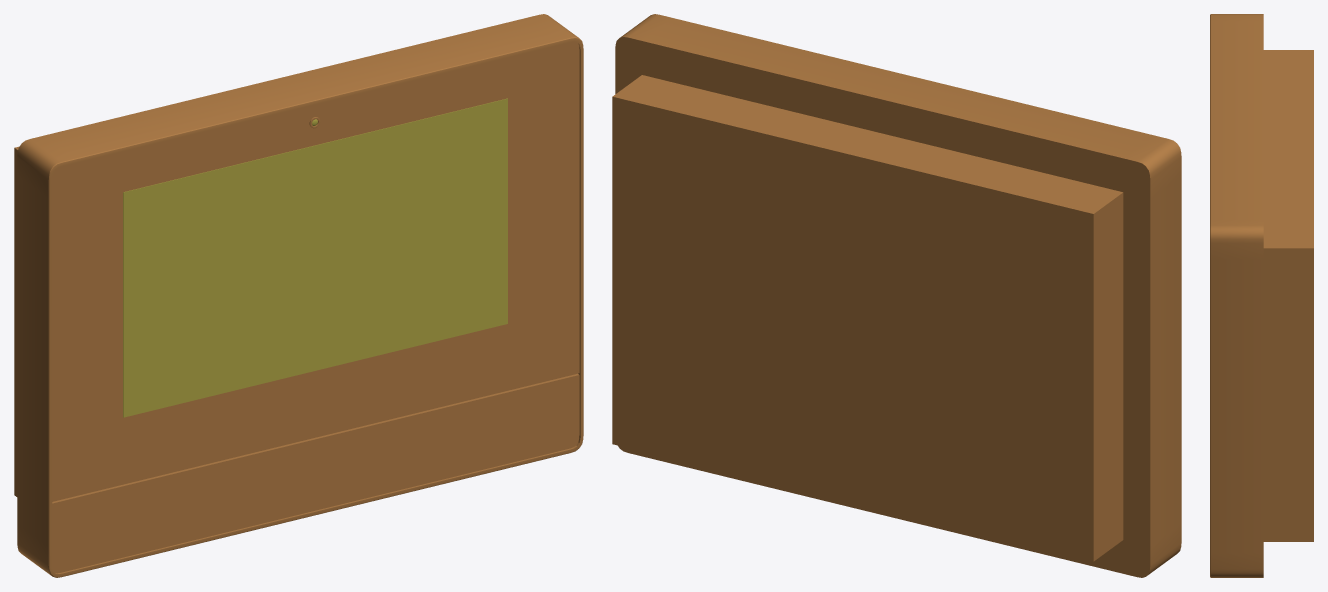
The model's file is Security_Panel.fbx.
The picture shows the model from 3 angles, left to right: view 1: azimuth 30°, elevation 25°; view 2: azimuth 150°, elevation 25°; view 3: azimuth 270°, elevation 25°; orthographic projection. The views are drawn at different scales.
Parts seen in each view (by area): view 1: mesh_case, mesh_glass; view 2: mesh_case; view 3: mesh_case.
Part boxes in pixels (x1=…): mesh_case: x1=14, y1=14, x2=583, y2=577; mesh_glass: x1=123, y1=98, x2=507, y2=417; mesh_case: x1=612, y1=14, x2=1181, y2=577; mesh_case: x1=1210, y1=14, x2=1313, y2=577.
Size of the model in its own units: 20.23 by 15.01 by 4.03.
